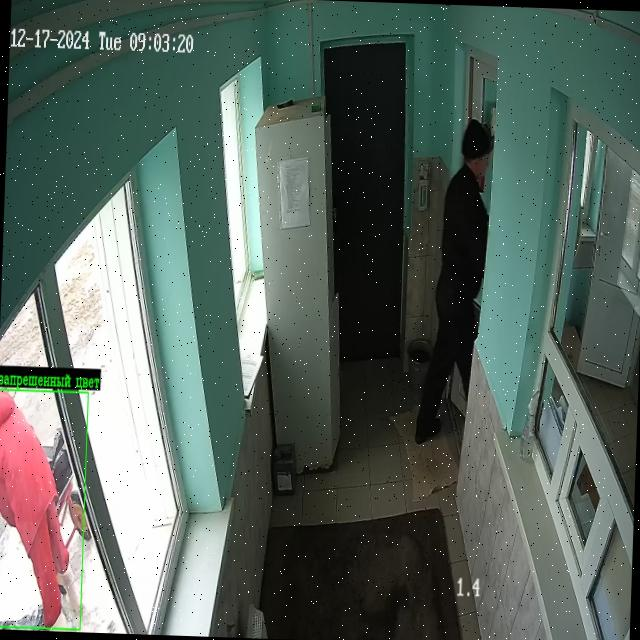Person: (414, 119, 493, 443)
Red uniform: (0, 392, 69, 624)
